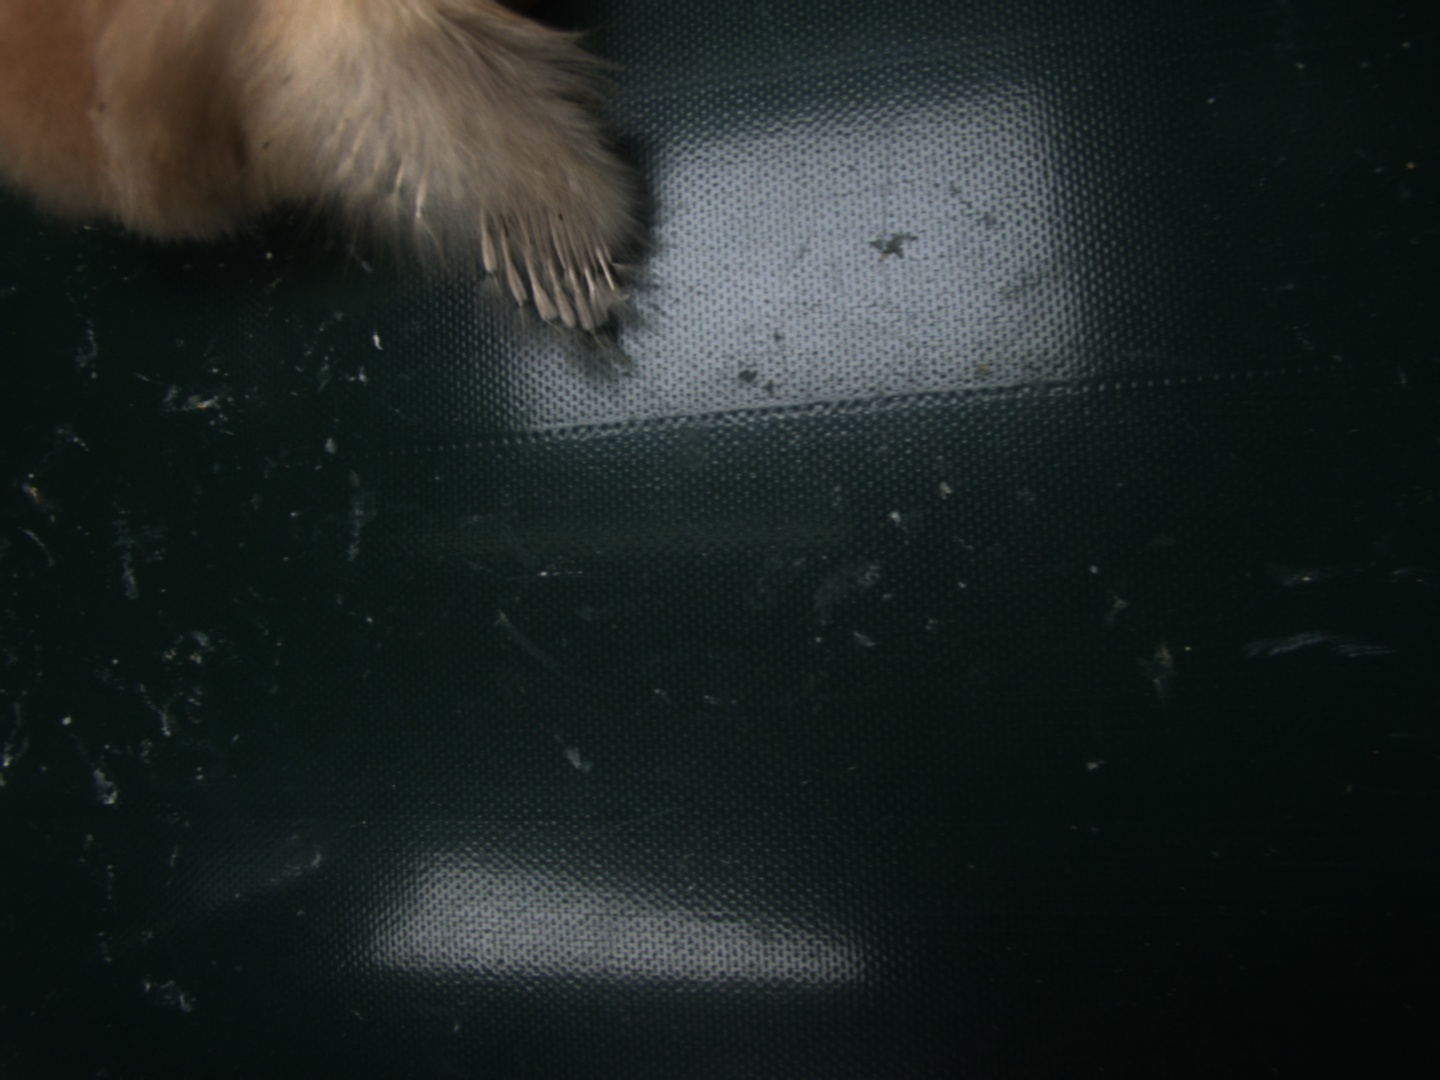female: (473, 194, 618, 332)
